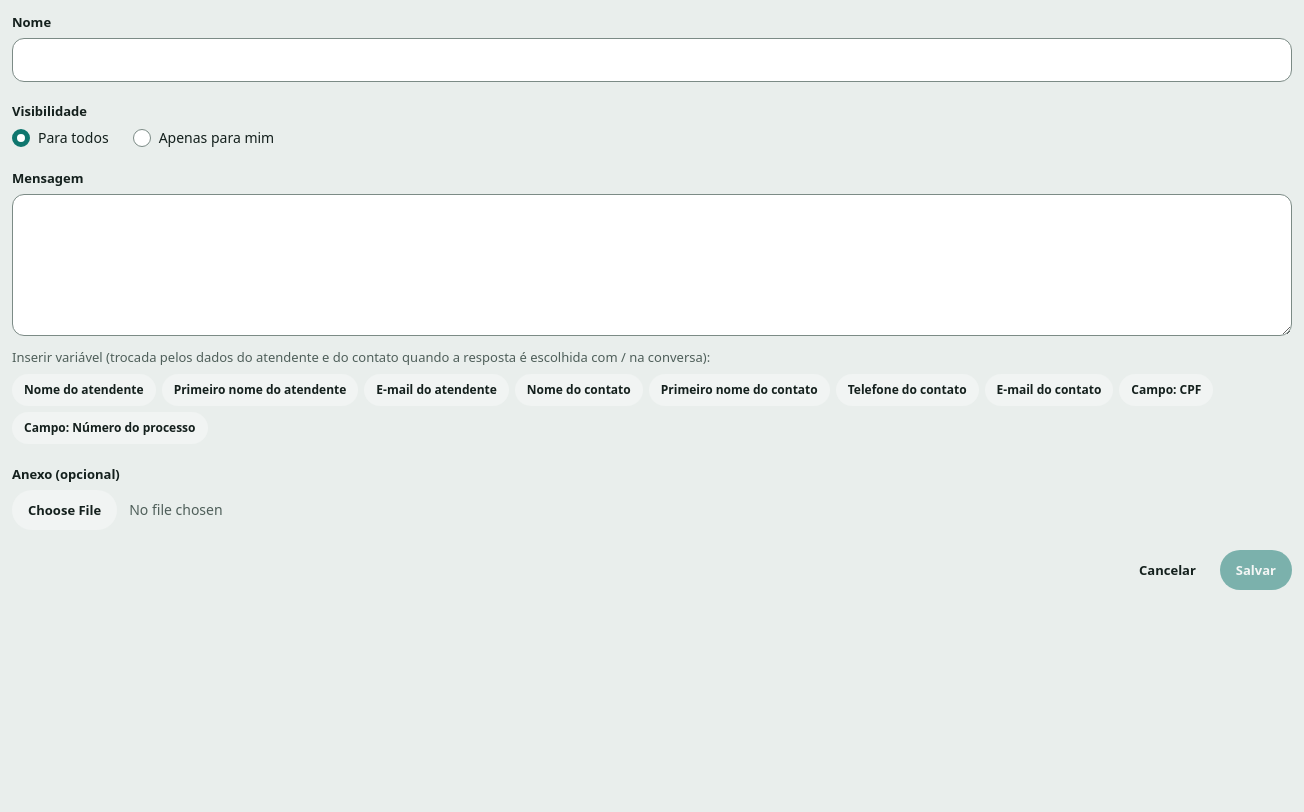
Scenario: QuickAnswerForm › inserts the variable at the cursor and keeps typing position for the next one
Type "Olá , tudo bem?" into the text box labelled "Mensagem" at [652, 265], box [12,194,1292,336]
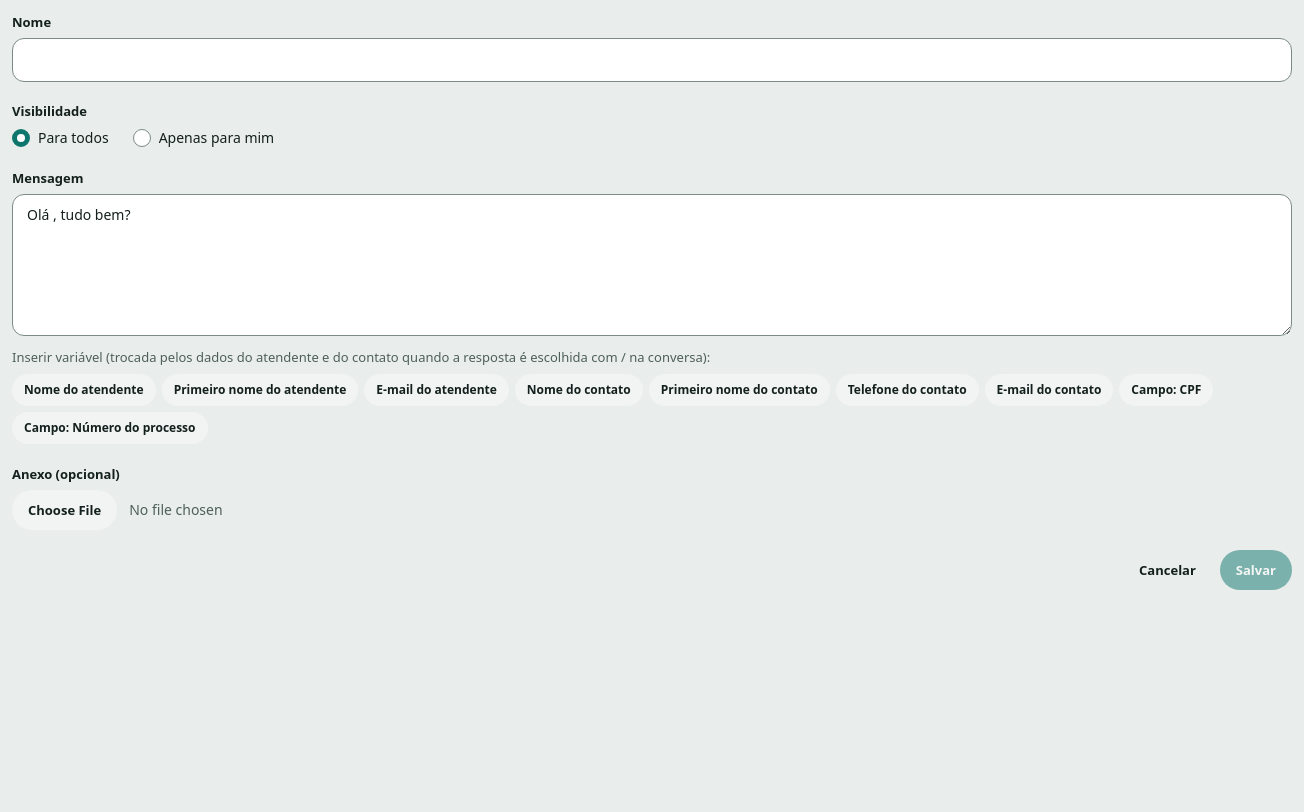
Click the button "Nome do contato" at [579, 390], box [515,374,643,406]
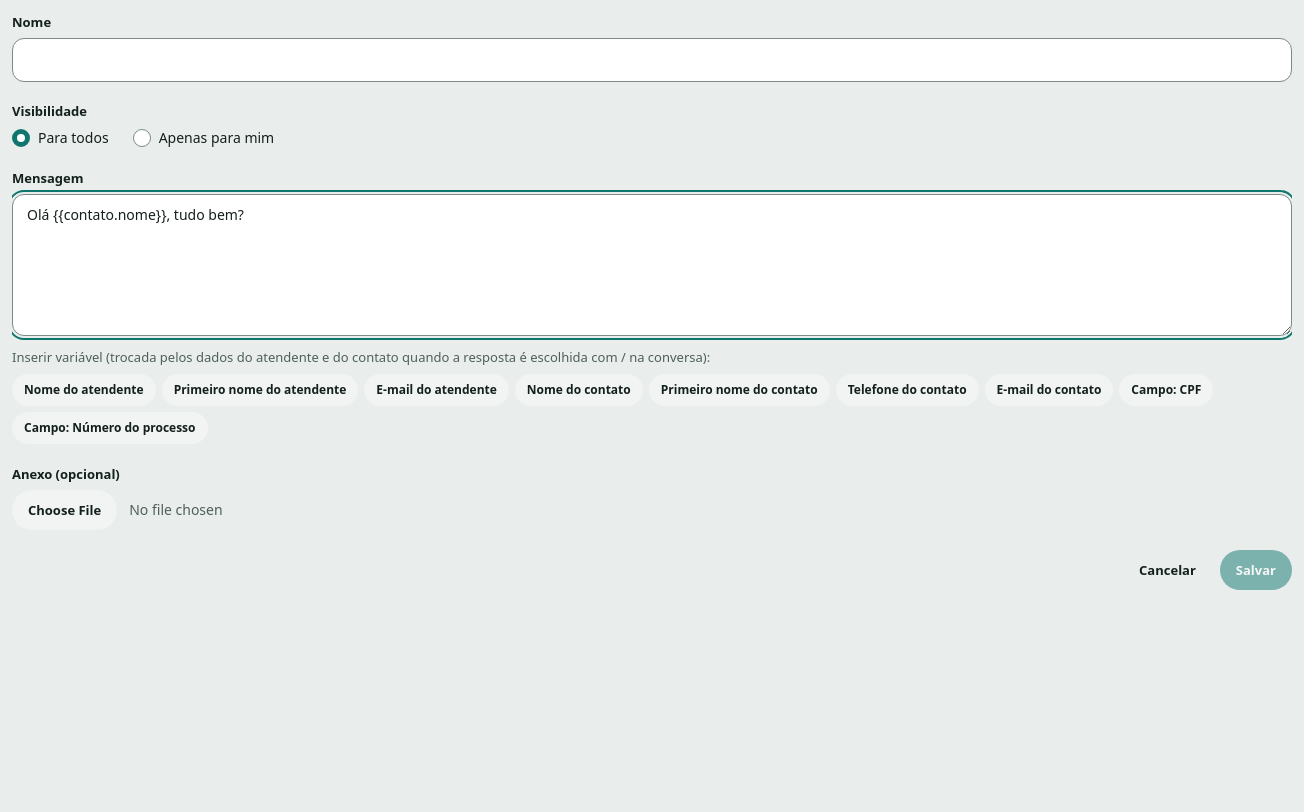
expect the text box labelled "Mensagem" holds "Olá {{contato.nome}}, tudo bem?": met, box [12,194,1292,336]
Click the button "Primeiro nome do atendente" at [260, 390], box [162,374,358,406]
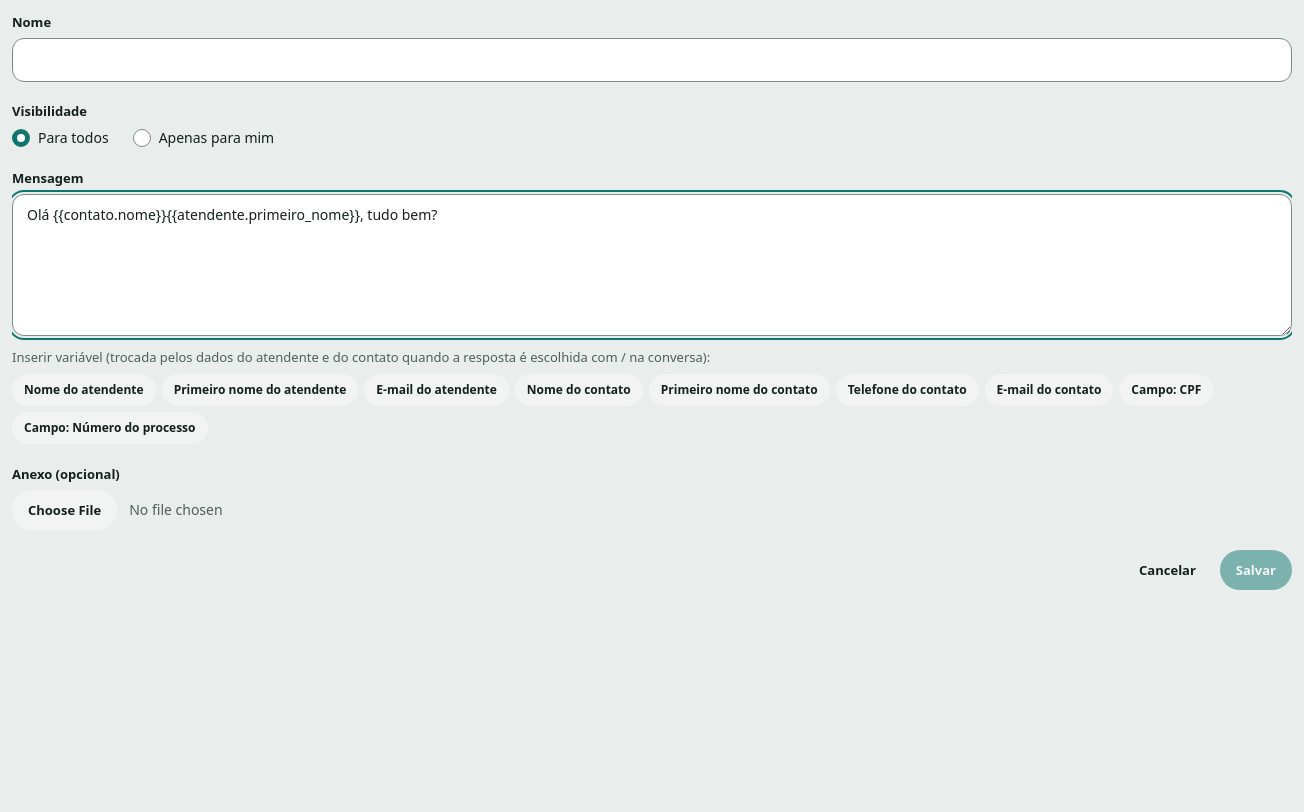
expect the text box labelled "Mensagem" holds "Olá {{contato.nome}}{{atendente.primeiro_nome}}, tudo bem?": met, box [12,194,1292,336]
